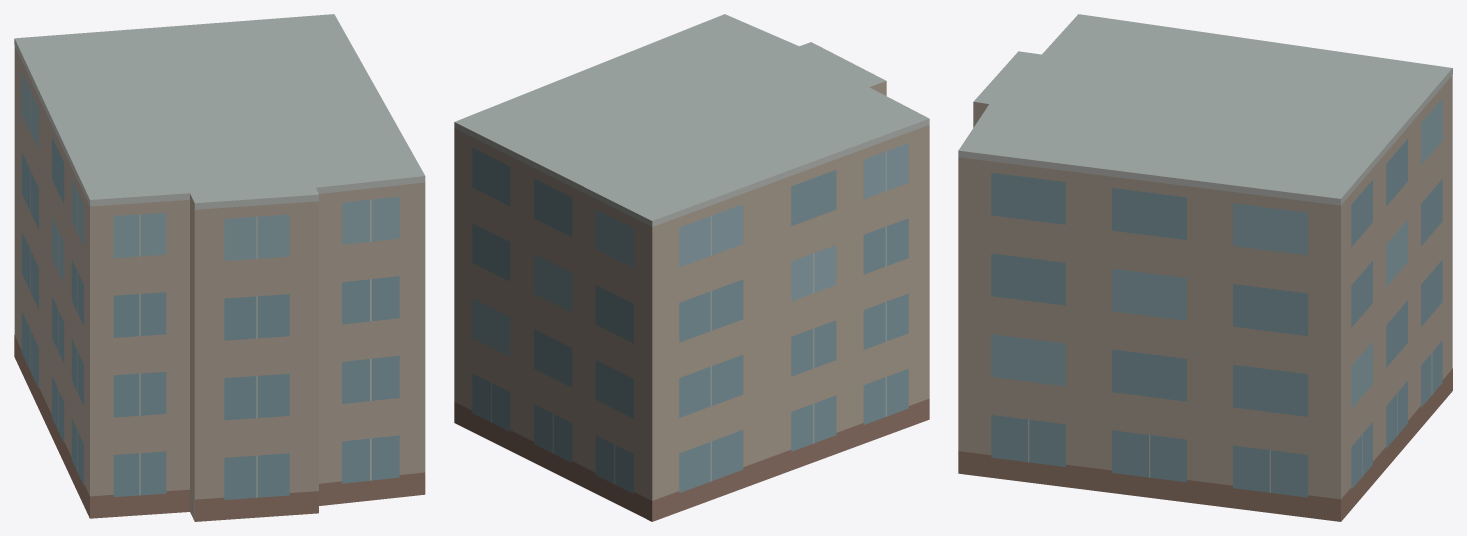
The model's file is survey-upis-32893241.glb.
3 renders of one model, left to right at view 1: azimuth 30°, elevation 25°; view 2: azimuth 150°, elevation 25°; view 3: azimuth 270°, elevation 25°, orthographic. The views are drawn at different scales.
Visible parts, largest first — view 1: survey-upis-32893241.tmp; view 2: survey-upis-32893241.tmp; view 3: survey-upis-32893241.tmp.
Boxes of the visible parts, <box> form: survey-upis-32893241.tmp: <box>14,14,425,521</box>; survey-upis-32893241.tmp: <box>454,14,929,521</box>; survey-upis-32893241.tmp: <box>958,14,1452,521</box>.
Size of the model in its own units: 14.69 by 11.95 by 16.59.
